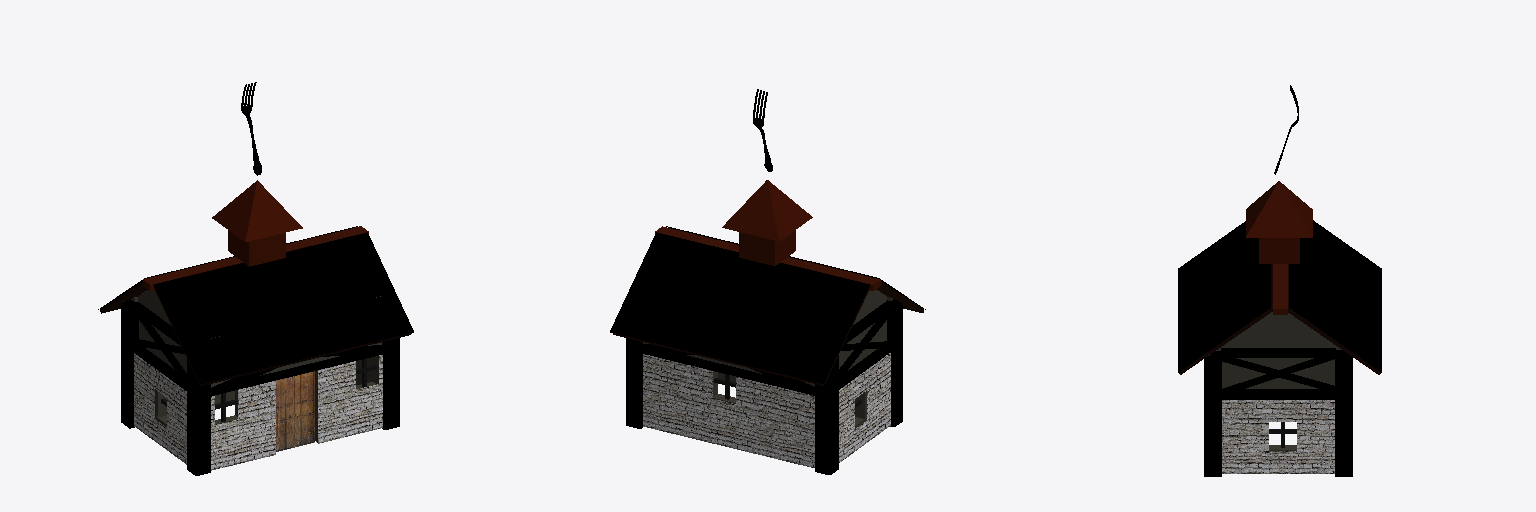
3 renders of one model, left to right at view 1: azimuth 30°, elevation 25°; view 2: azimuth 150°, elevation 25°; view 3: azimuth 270°, elevation 25°, orthographic.
Visible parts, largest first — view 1: polySurface15 polySurface23, pCube33, pPlane8, pPlane9, pPlane20, polySurface19, pCube22, pCube29, pPlane15, pPlane16, pCube24, pCube21 (+2 smaller); view 2: polySurface15 polySurface24, pCube33, pPlane12, pPlane11, pPlane13, pCube24, pCube29, polySurface19, pPlane16, pPlane15, pCube22, pCube23 (+2 smaller); view 3: polySurface15 polySurface24, polySurface15 polySurface23, pPlane19, pCube33, polySurface19, pCube23, pCube21, pCube30 polySurface37, polySurface36 pCube30, pCube30 polySurface39, pCube30 polySurface38.
Boxes of the visible parts, <box> form: polySurface15 polySurface23: <box>154,232,413,383</box>; pCube33: <box>143,180,368,290</box>; pPlane8: <box>211,381,275,470</box>; pPlane9: <box>318,355,382,443</box>; pPlane20: <box>276,371,314,451</box>; polySurface19: <box>131,290,381,442</box>; pCube22: <box>187,359,210,475</box>; pCube29: <box>126,299,186,390</box>; pPlane15: <box>134,353,171,453</box>; pPlane16: <box>160,372,186,464</box>; pCube24: <box>121,302,138,428</box>; pCube21: <box>382,338,399,429</box>; polySurface15 polySurface24: <box>610,232,869,383</box>; pCube33: <box>655,180,880,290</box>; pPlane12: <box>643,354,707,441</box>; pPlane11: <box>751,381,814,467</box>; pPlane13: <box>683,365,758,453</box>; pCube24: <box>815,355,838,474</box>; pCube29: <box>839,299,898,389</box>; polySurface19: <box>643,290,892,428</box>; pPlane16: <box>854,353,890,451</box>; pPlane15: <box>839,367,871,462</box>; pCube22: <box>887,302,902,426</box>; pCube23: <box>626,338,642,428</box>; polySurface15 polySurface24: <box>1289,220,1381,372</box>; polySurface15 polySurface23: <box>1178,221,1270,372</box>; pPlane19: <box>1222,400,1334,473</box>; pCube33: <box>1246,181,1312,314</box>; polySurface19: <box>1209,312,1341,451</box>; pCube23: <box>1335,354,1352,476</box>; pCube21: <box>1204,356,1221,476</box>; pCube30 polySurface37: <box>1210,348,1347,357</box>; polySurface36 pCube30: <box>1222,389,1334,399</box>; pCube30 polySurface39: <box>1222,358,1334,391</box>; pCube30 polySurface38: <box>1222,358,1334,391</box>.
Size of the model in its own units: 14.41 by 21.31 by 11.68.
Materials: 11 (3 with a texture image).